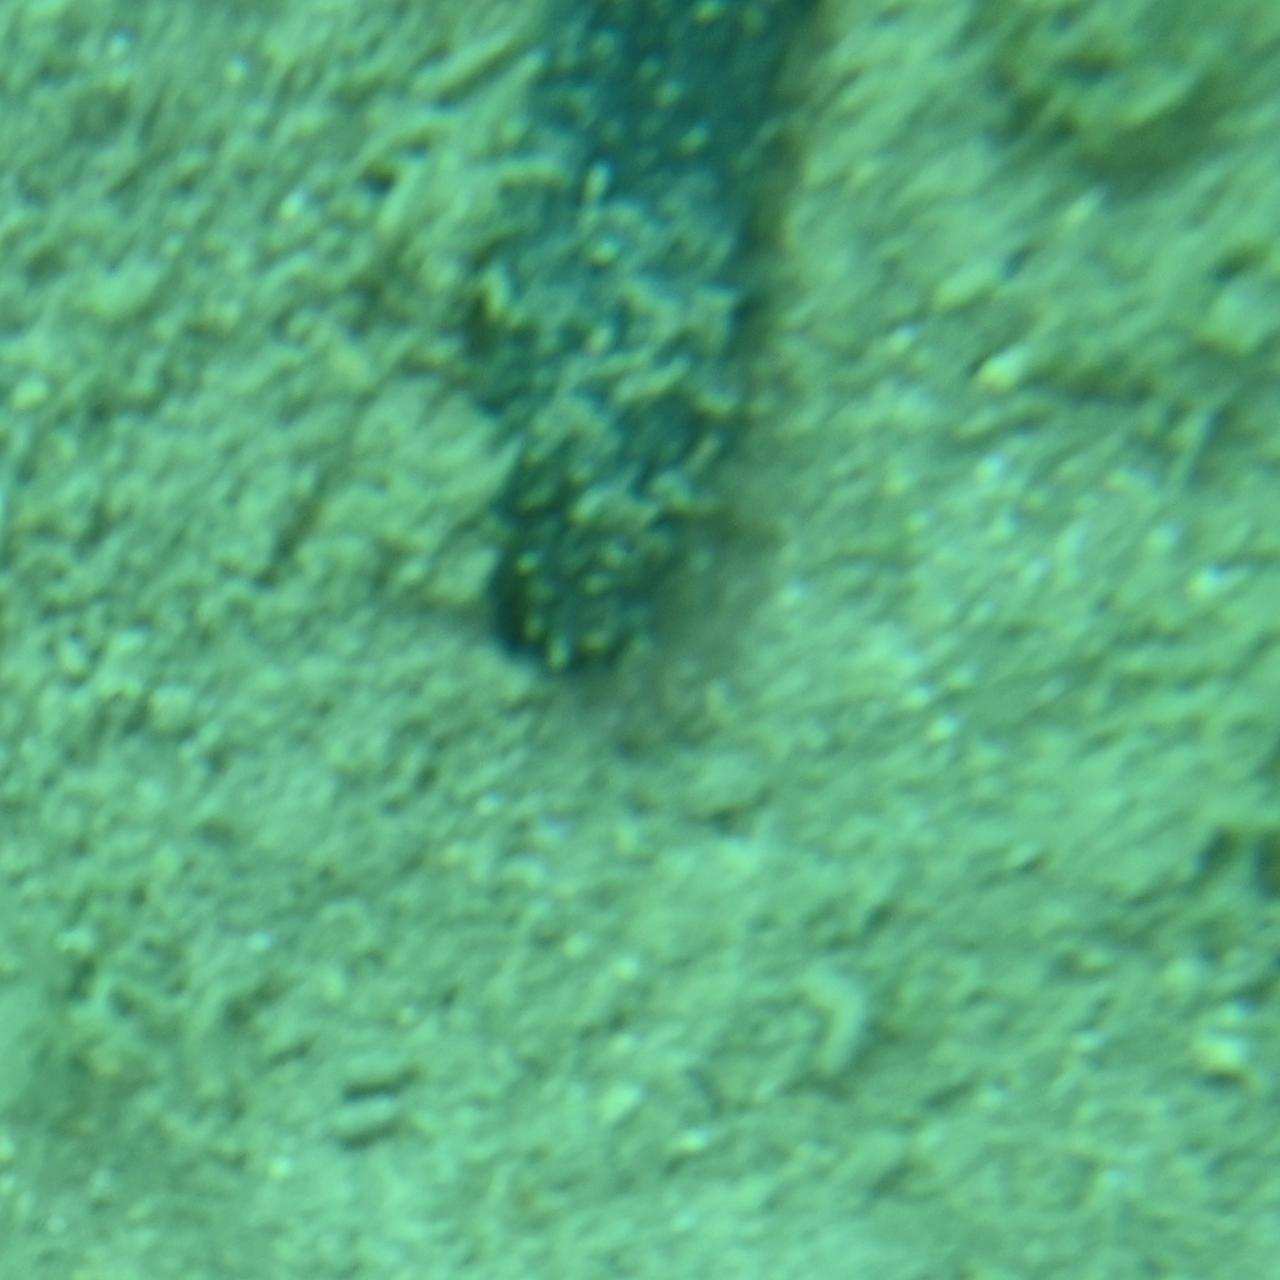Holothuria tubulosa: (461, 1, 819, 689)
